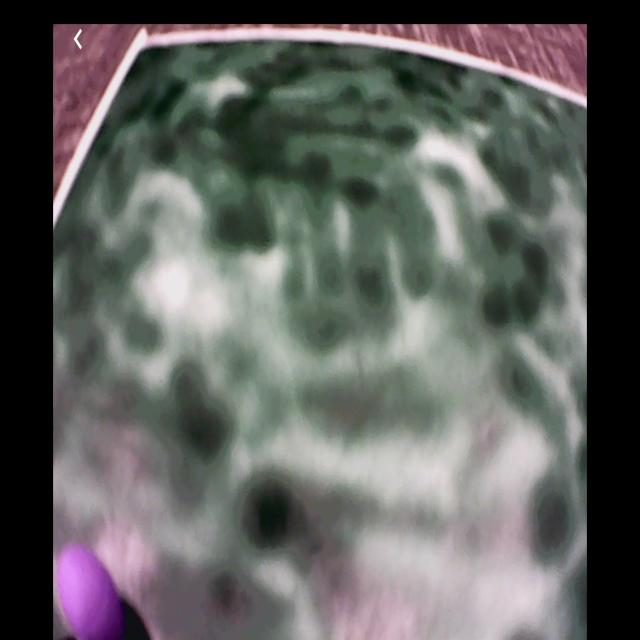ball: (58, 545, 121, 640)
